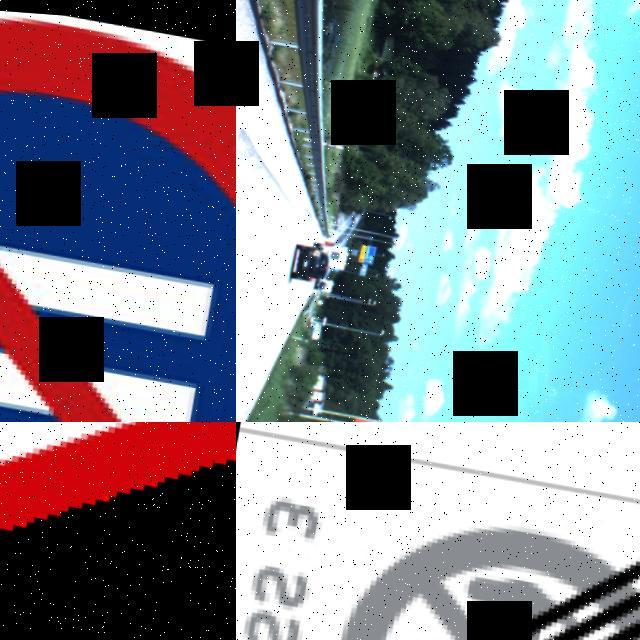110: (236, 424, 640, 640)
28: (0, 0, 236, 422)
Steep descent: (0, 422, 236, 640)
